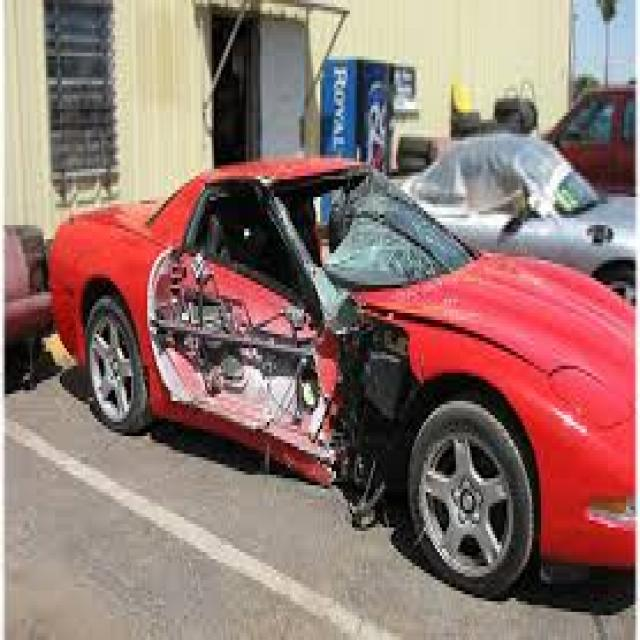moderate: (126, 202, 424, 524)
